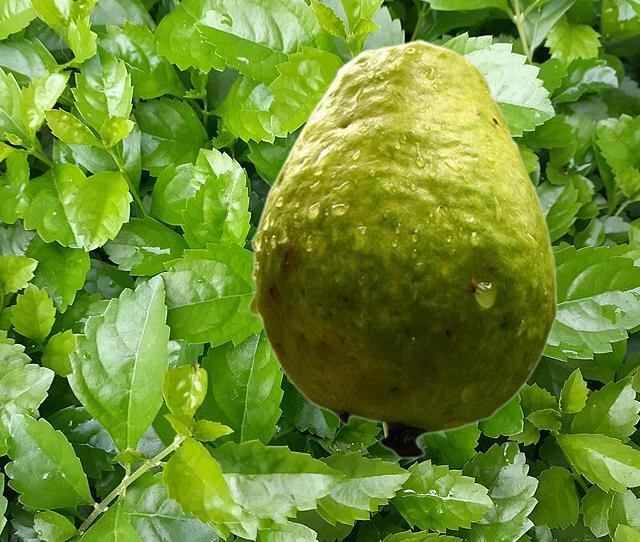guava: (248, 39, 557, 459)
